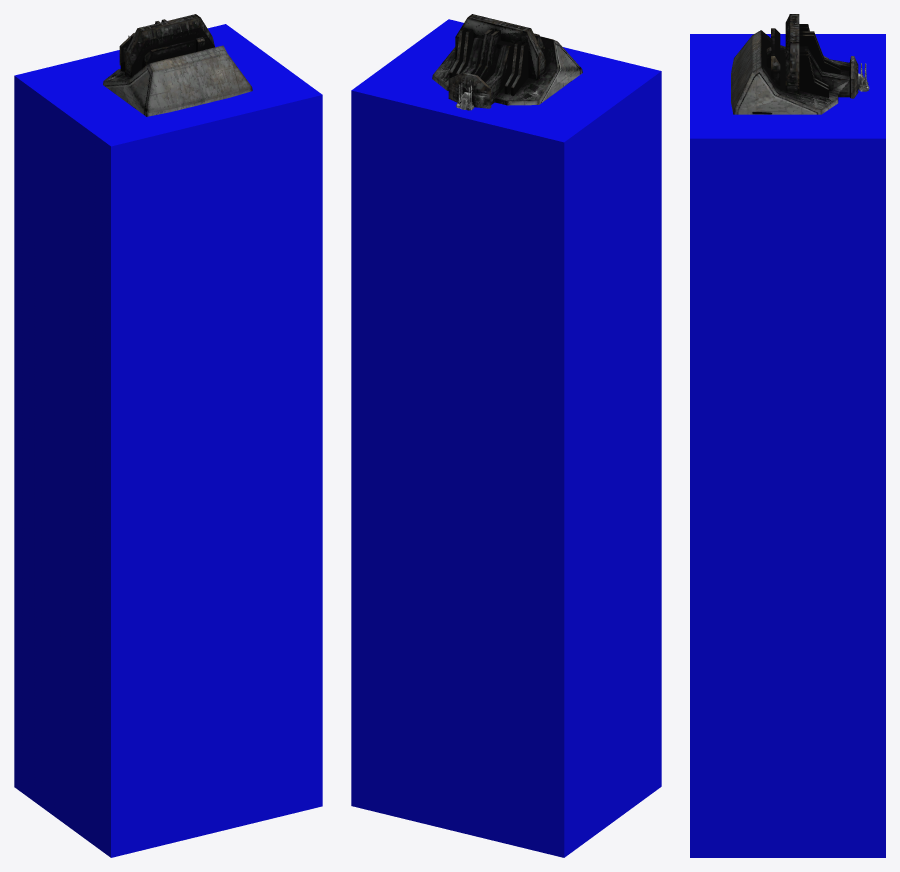
The model's file is GM_NeutronStar.obj.
3 renders of one model, left to right at view 1: azimuth 30°, elevation 25°; view 2: azimuth 150°, elevation 25°; view 3: azimuth 270°, elevation 25°, orthographic.
Visible parts, largest first — view 1: Box01, objNeutronUV; view 2: Box01, objNeutronUV; view 3: Box01, objNeutronUV.
Boxes of the visible parts, x1=… form: Box01: x1=14, y1=24, x2=322, y2=857; objNeutronUV: x1=103, y1=14, x2=252, y2=116; Box01: x1=351, y1=19, x2=661, y2=857; objNeutronUV: x1=432, y1=14, x2=582, y2=110; Box01: x1=690, y1=34, x2=885, y2=857; objNeutronUV: x1=731, y1=14, x2=869, y2=114.
Size of the model in its own units: 31.74 by 110 by 25.16.
